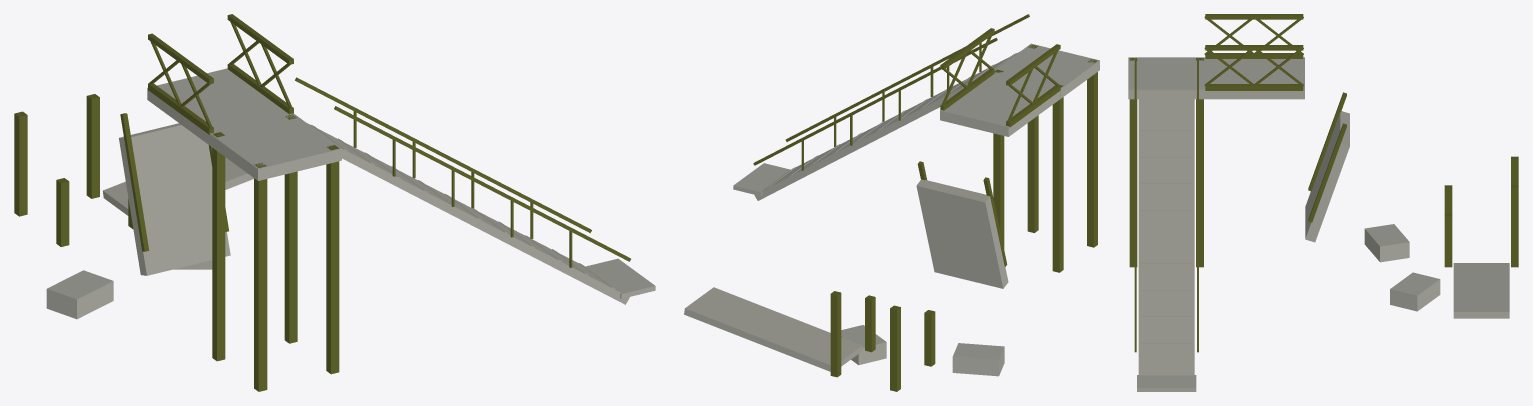
Rendered from SM_KitPaso_v4_LOD0.fbx.
3 renders of one model, left to right at view 1: azimuth 30°, elevation 25°; view 2: azimuth 150°, elevation 25°; view 3: azimuth 270°, elevation 25°, orthographic. The views are drawn at different scales.
Visible parts, largest first — view 1: SM_bloques.kit_paso_v4_LOD0; view 2: SM_bloques.kit_paso_v4_LOD0; view 3: SM_bloques.kit_paso_v4_LOD0.
Boxes of the visible parts, x1,y1,x2,y2 form: SM_bloques.kit_paso_v4_LOD0: (14,14,655,391); SM_bloques.kit_paso_v4_LOD0: (684,14,1099,391); SM_bloques.kit_paso_v4_LOD0: (1128,14,1518,391).
Bounding box in the file's own units: 11.75 × 7.66 × 11.16.
